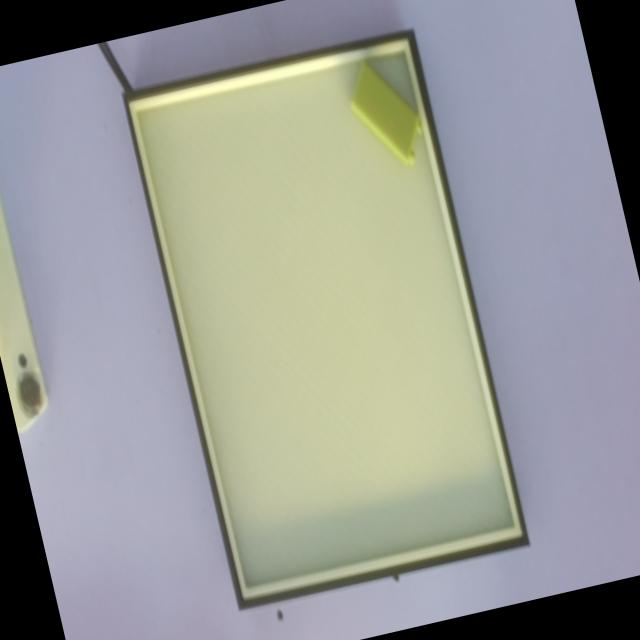bateria: (351, 55, 423, 169)
mesa: (122, 27, 530, 610)
